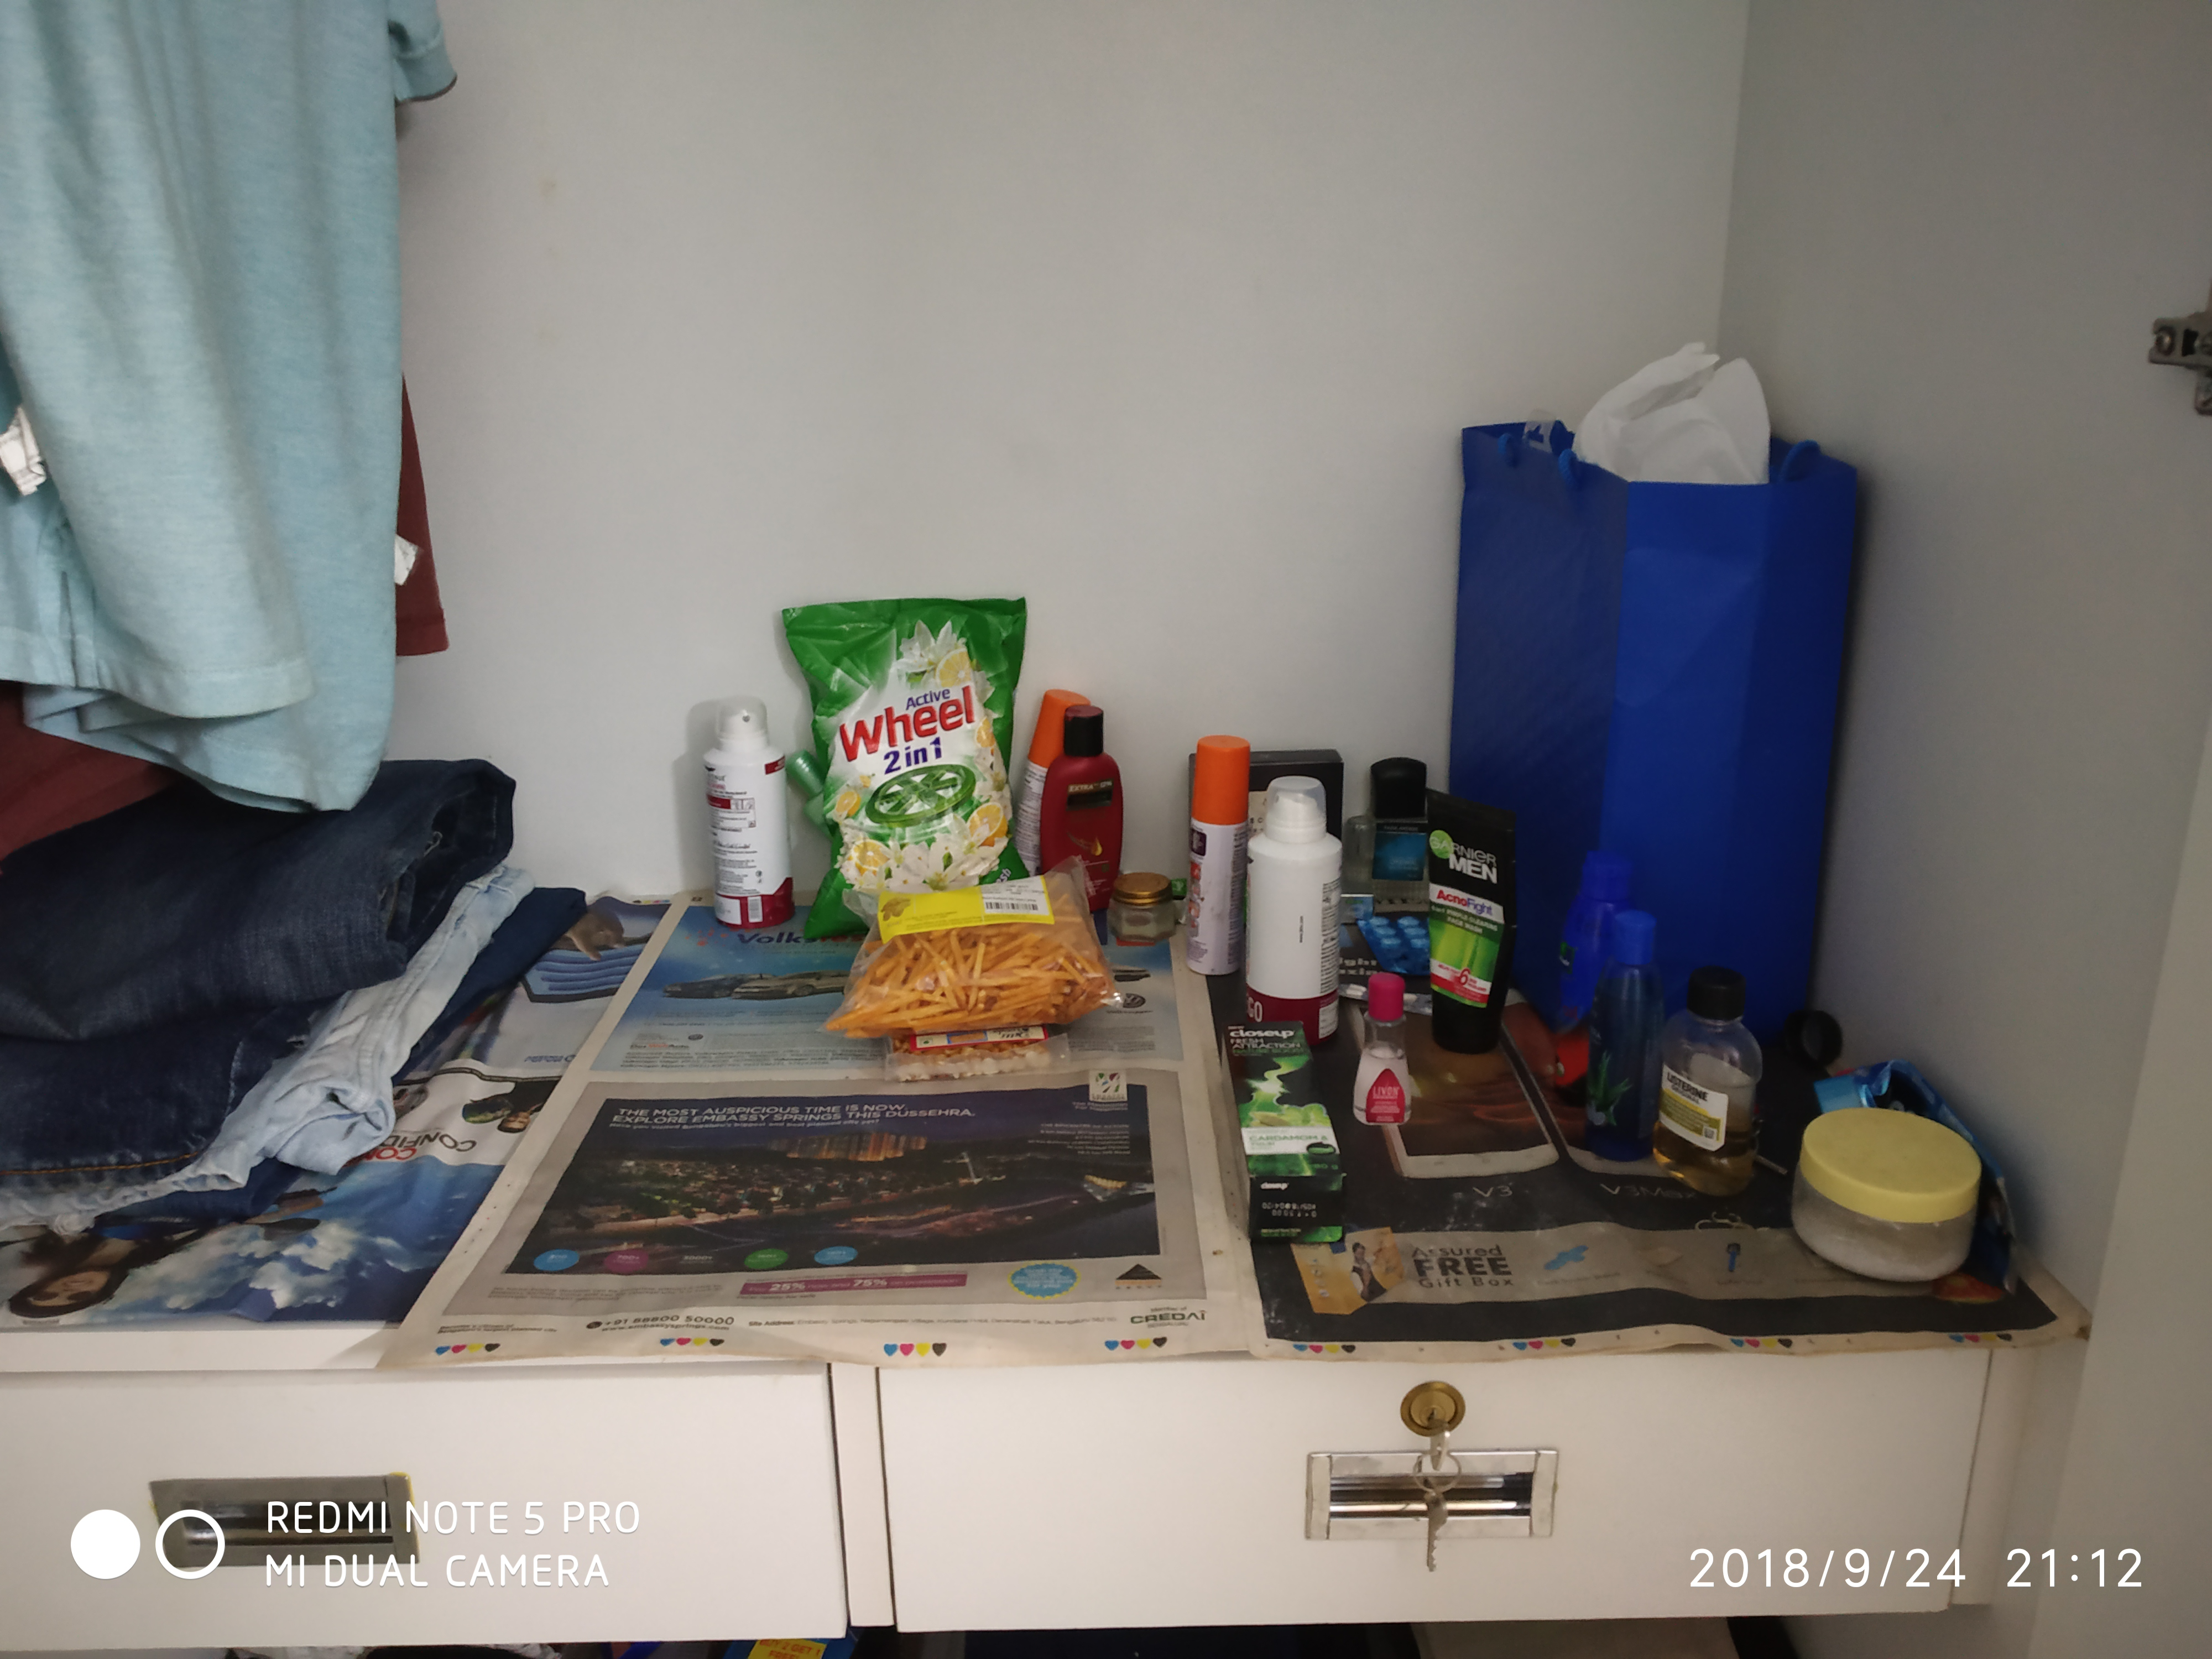detergent: (788, 591, 1031, 897)
